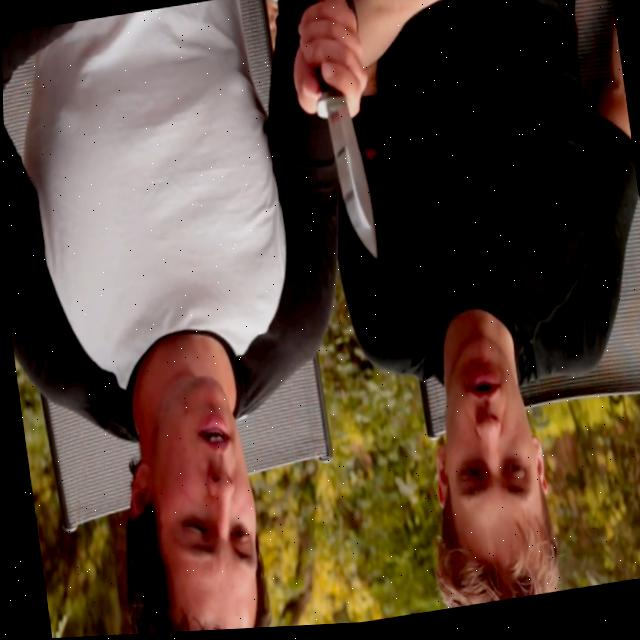knife: (308, 62, 378, 272)
